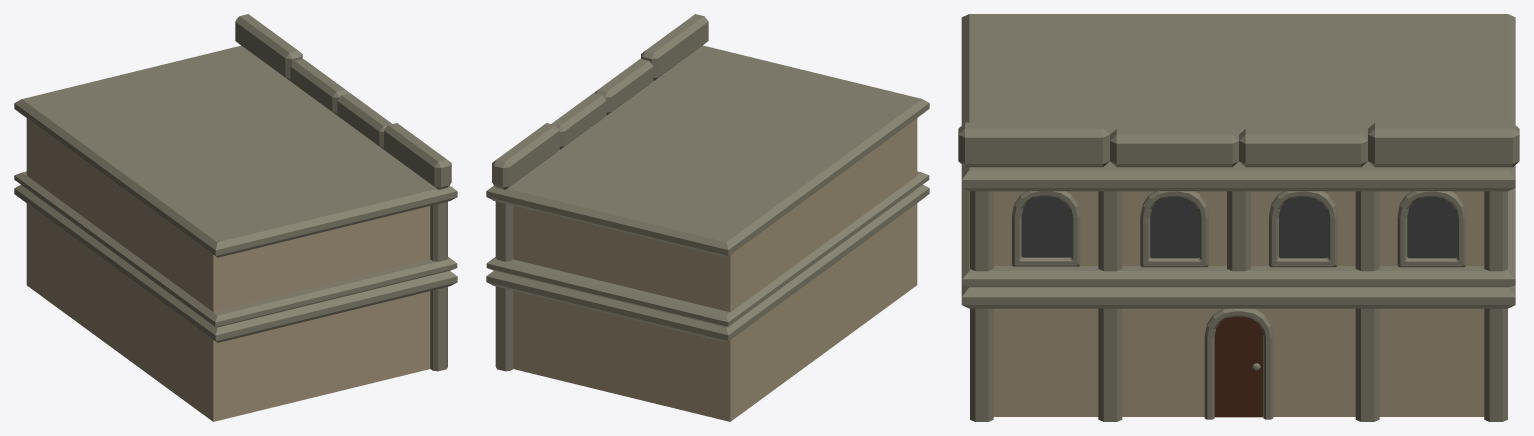
Rendered from Edi_Chico_Ama.fbx.
3 views of the same model, side by side, from view 1: azimuth 30°, elevation 25°; view 2: azimuth 150°, elevation 25°; view 3: azimuth 270°, elevation 25° (orthographic). The views are drawn at different scales.
Parts seen in each view (by area): view 1: Cube.080, Cube.081, Cube.083; view 2: Cube.080, Cube.081, Cube.083; view 3: Cube.080, Cube.081, Cube.083, Cube.087, Cube.082.
Part boxes in pixels (left/top/right/bottom): Cube.080: left=14, top=45, right=457, bottom=327; Cube.081: left=14, top=185, right=457, bottom=421; Cube.083: left=235, top=14, right=451, bottom=189; Cube.080: left=486, top=45, right=929, bottom=327; Cube.081: left=486, top=184, right=929, bottom=421; Cube.083: left=492, top=14, right=708, bottom=189; Cube.080: left=961, top=14, right=1515, bottom=287; Cube.081: left=961, top=188, right=1515, bottom=421; Cube.083: left=958, top=122, right=1519, bottom=167; Cube.087: left=1214, top=316, right=1262, bottom=417; Cube.082: left=1204, top=308, right=1273, bottom=419.
Bounding box in the file's own units: 3819 × 3183 × 5574.
